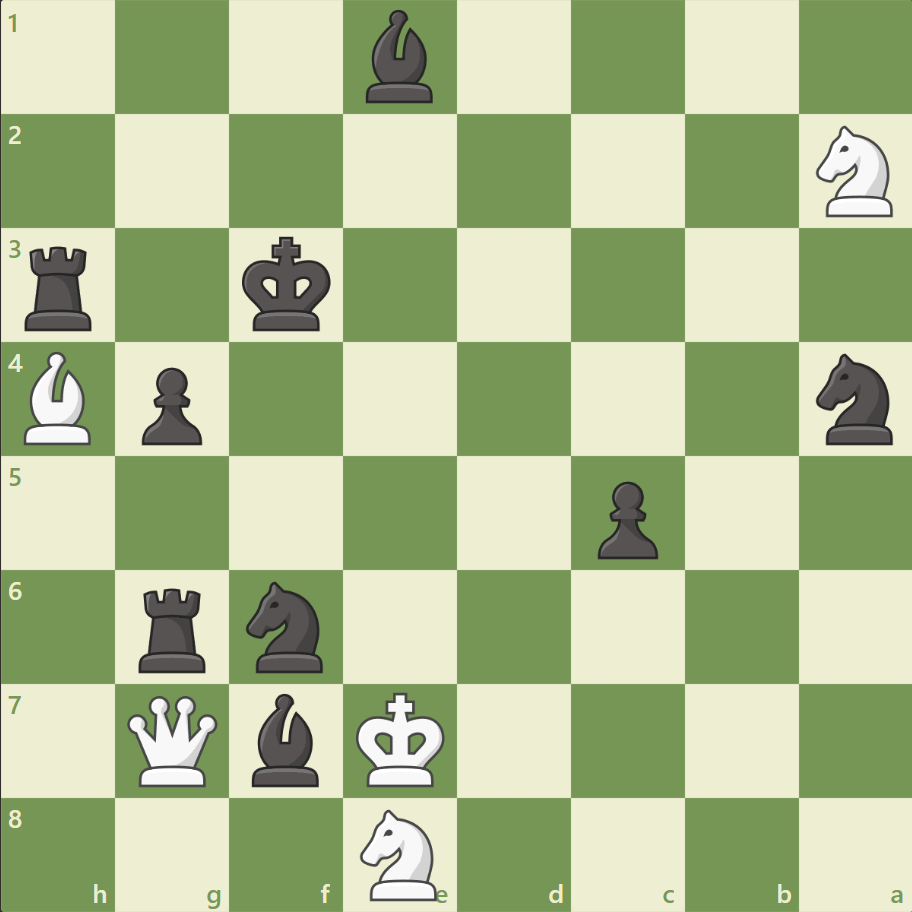B: (17, 347, 101, 449)
K: (351, 685, 451, 793)
N: (351, 802, 449, 904), (806, 121, 903, 223)
Q: (124, 690, 223, 789)
b: (244, 687, 328, 790), (358, 6, 442, 109)
k: (238, 231, 338, 339)
n: (238, 575, 335, 677), (806, 348, 903, 450)
p: (133, 359, 208, 450), (588, 473, 662, 564)
r: (19, 239, 102, 336), (133, 579, 215, 676)
